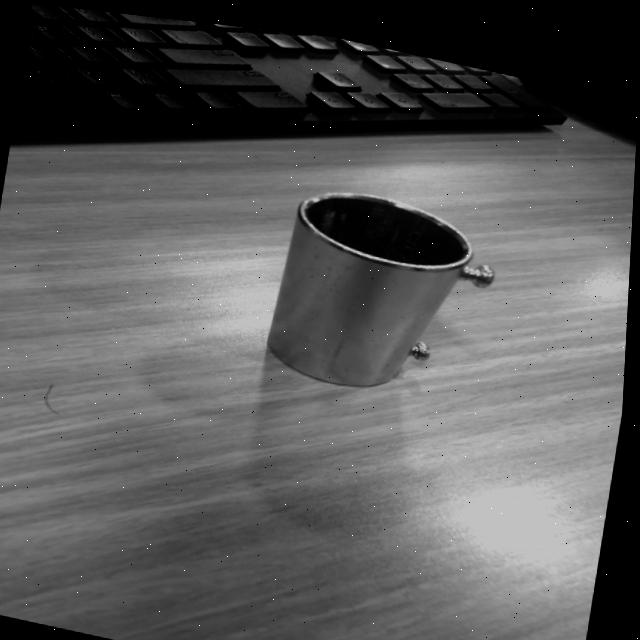Co_Lon: (260, 179, 505, 413)
